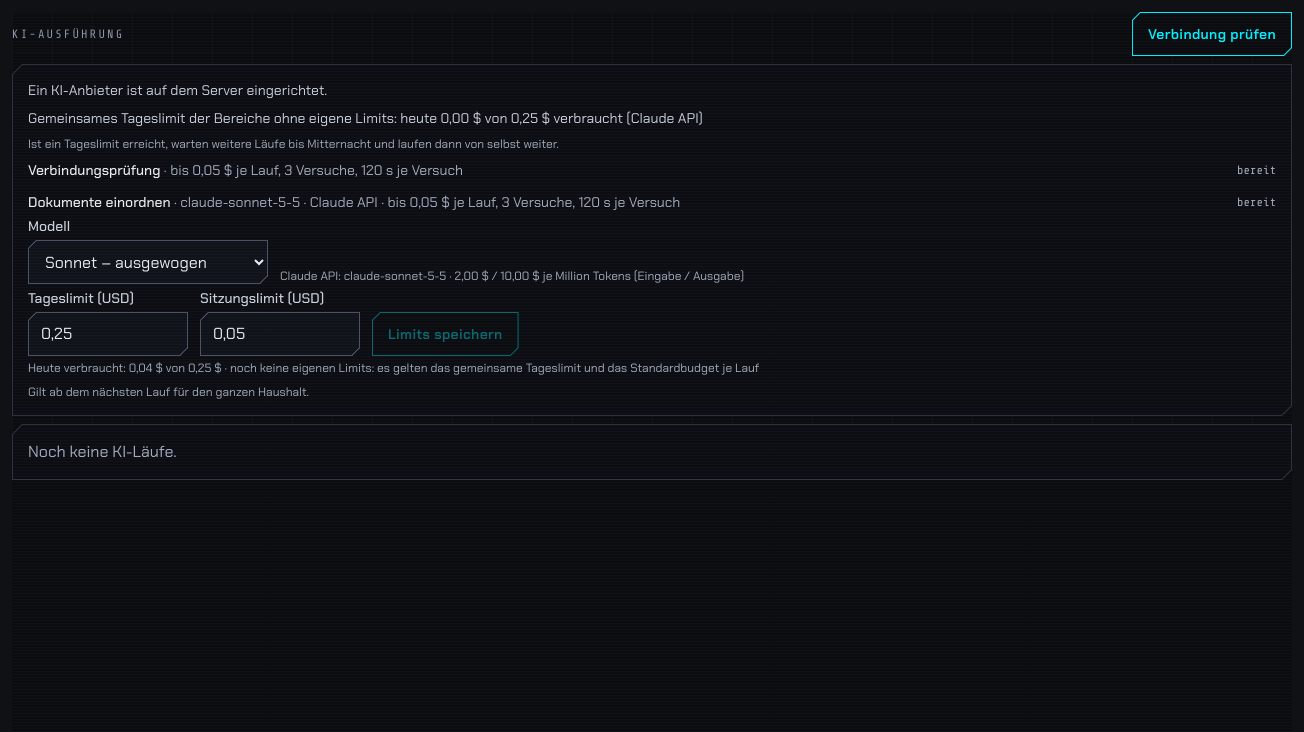
it: AI cost limits › shows the other member's limits after a concurrent change
This screenshot has width=1304, height=732.
Replace the text in the field with test id "ai-limits-DOCUMENT_CLASSIFICATION-daily" with "3" at (108, 334), box top-left (28, 312), bottom-right (188, 356)
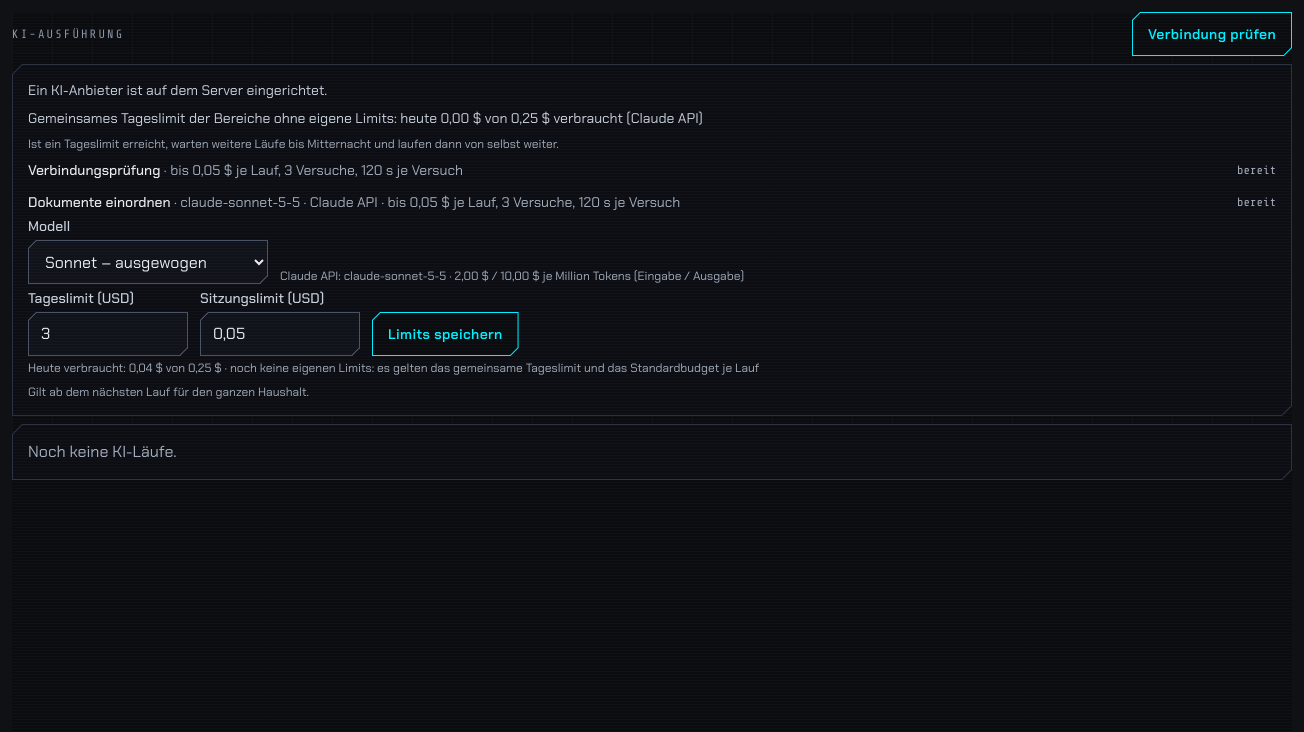
Click the button with test id "ai-limits-DOCUMENT_CLASSIFICATION-save" at (445, 334), box top-left (372, 312), bottom-right (519, 356)
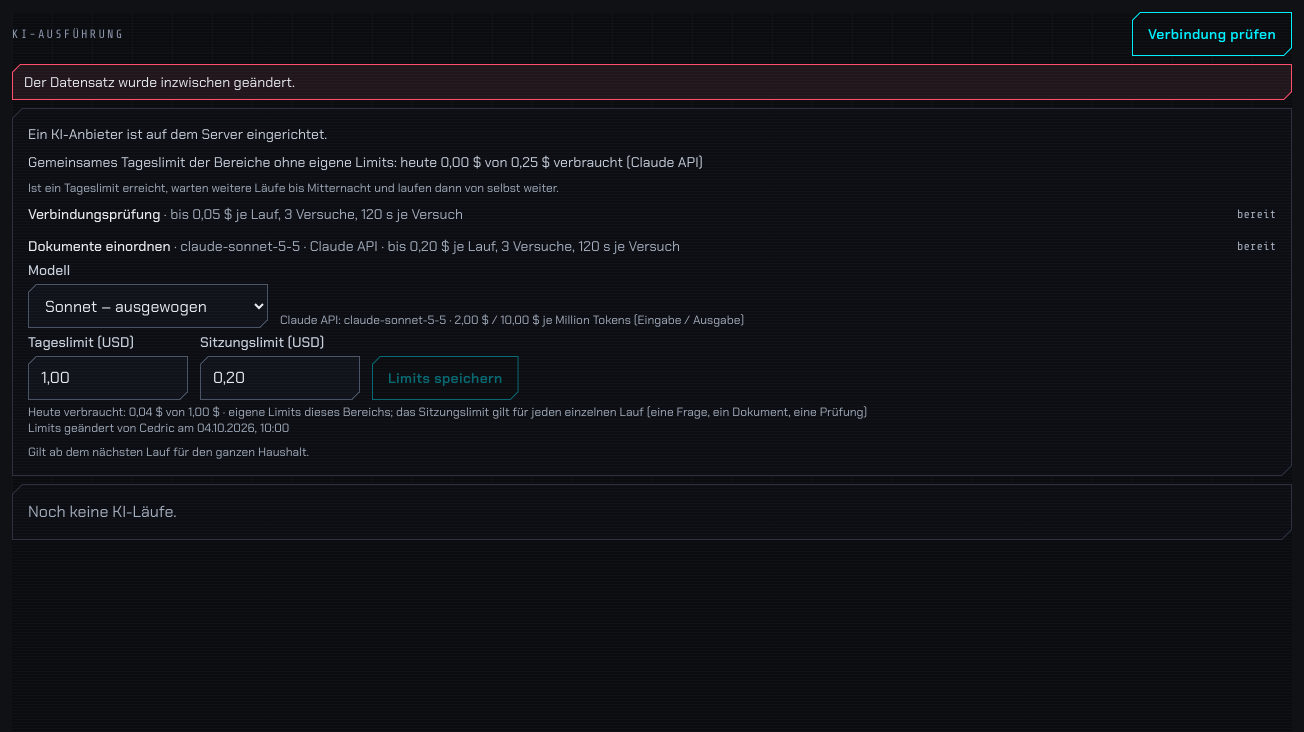
Expected: the text "Der Datensatz wurde inzwischen geändert." is shown, top-left (24, 73), bottom-right (295, 91)
Expected: the field with test id "ai-limits-DOCUMENT_CLASSIFICATION-daily" holds "1,00", top-left (28, 356), bottom-right (188, 400)
Expected: the text "Limits geändert von Cedric" is shown, top-left (28, 420), bottom-right (289, 436)
